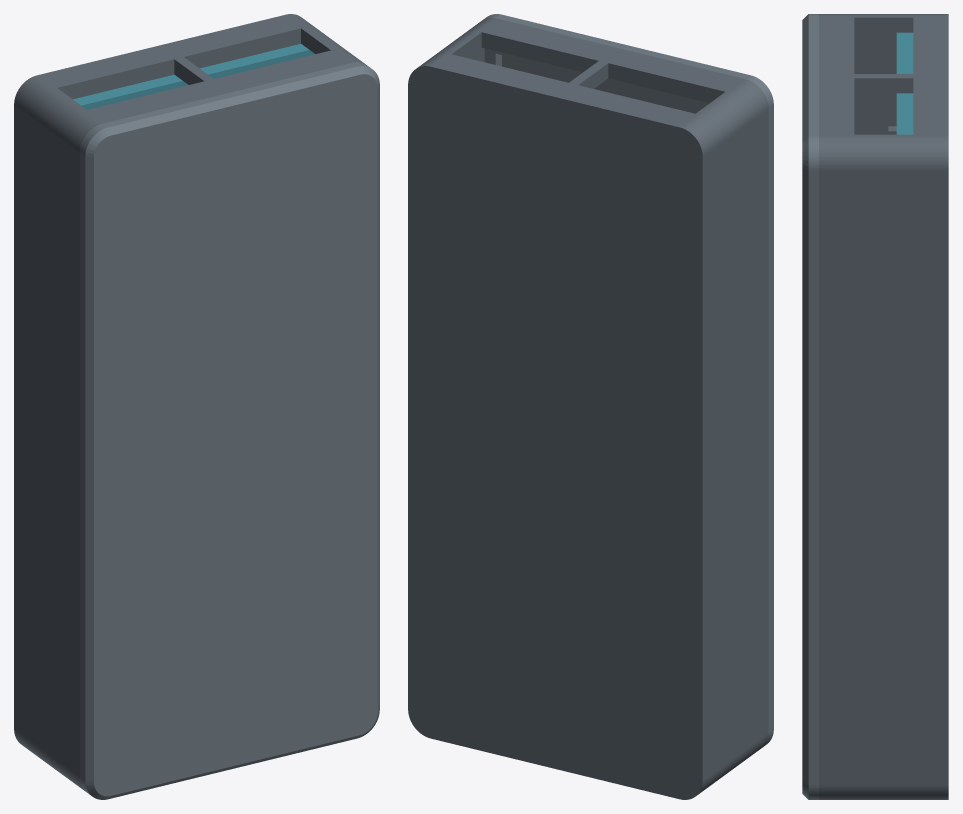
File: easyduino-esp32s3_assembly.glb
The picture shows the model from 3 angles, left to right: view 1: azimuth 30°, elevation 25°; view 2: azimuth 150°, elevation 25°; view 3: azimuth 270°, elevation 25°; orthographic projection.
Parts seen in each view (by area): view 1: lid, bottom, board_proxy; view 2: bottom, lid; view 3: bottom, lid, board_proxy.
Part boxes in pixels (left/top/right/bottom): lid: left=80, top=62, right=379, bottom=799; bottom: left=14, top=14, right=365, bottom=791; board_proxy: left=73, top=44, right=314, bottom=109; bottom: left=408, top=18, right=768, bottom=799; lid: left=483, top=14, right=773, bottom=746; bottom: left=819, top=14, right=948, bottom=799; lid: left=802, top=14, right=818, bottom=799; board_proxy: left=896, top=32, right=913, bottom=134.
Bounding box in the file's own units: 32.26 × 70.3 × 14.1.
